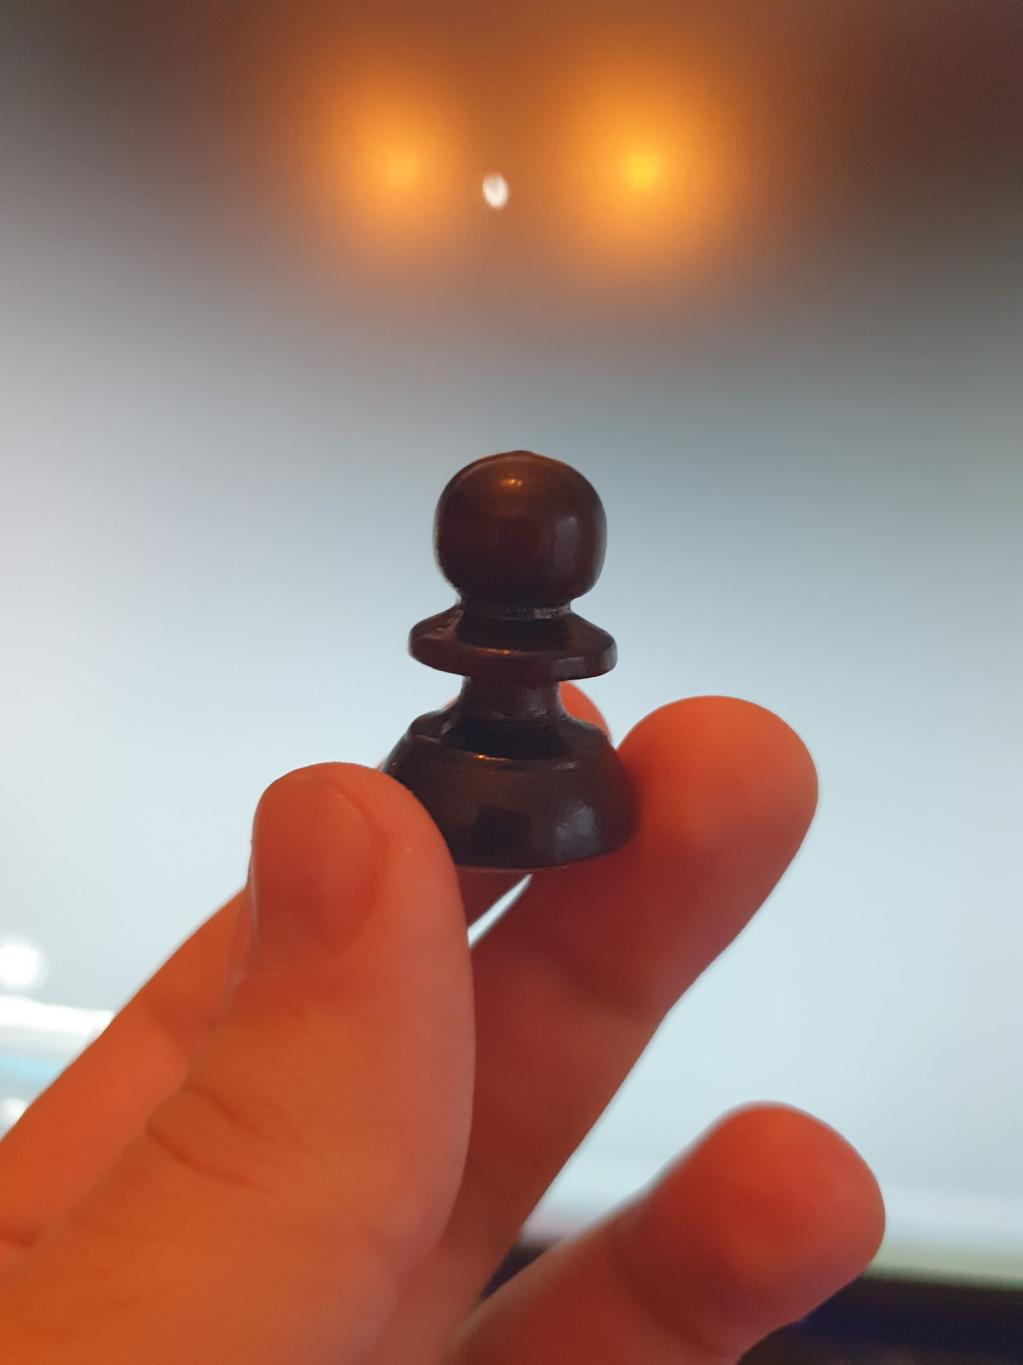bpawn: (381, 452, 638, 870)
